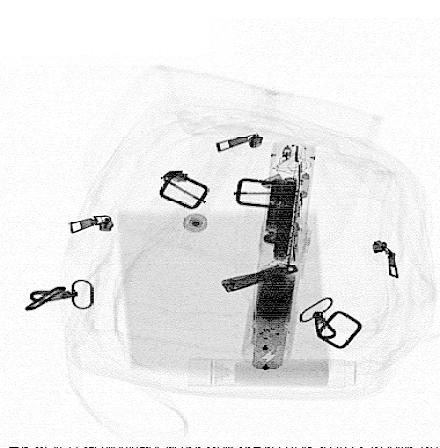Baton: (241, 139, 317, 370)
